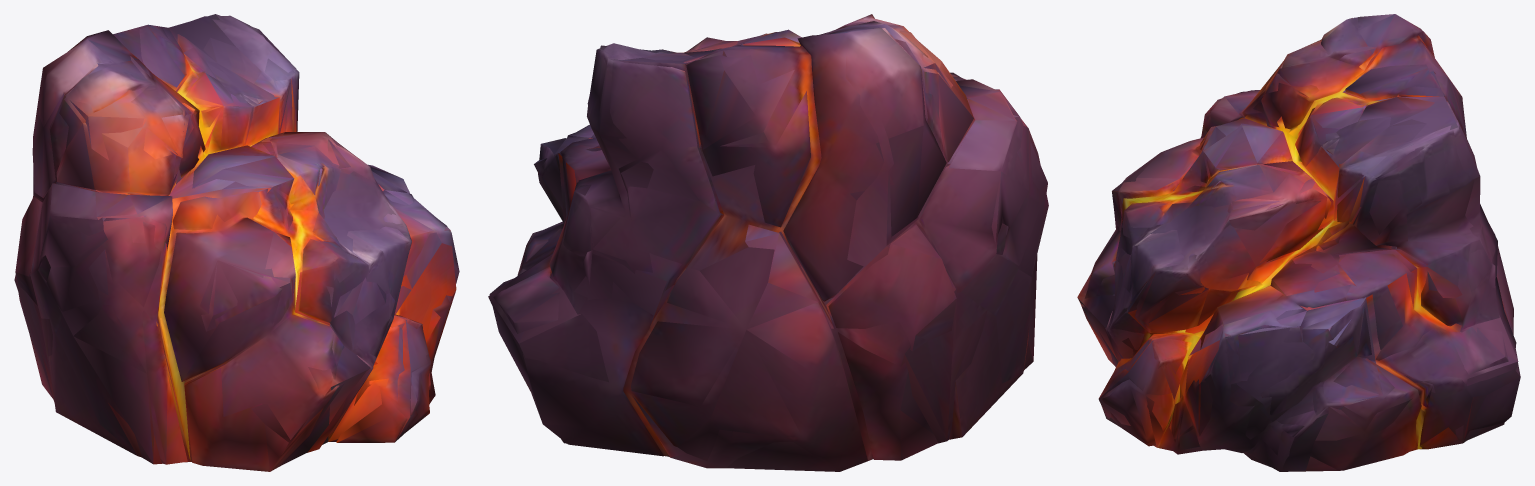
The model's file is rocha.glb.
3 views of the same model, side by side, from view 1: azimuth 30°, elevation 25°; view 2: azimuth 150°, elevation 25°; view 3: azimuth 270°, elevation 25° (orthographic). The views are drawn at different scales.
Visible parts, largest first — view 1: rocha, rocha-lod; view 2: rocha, rocha-lod; view 3: rocha, rocha-lod.
Part boxes in pixels (x1,y1,x2,y2): rocha: [15, 15, 459, 471]; rocha-lod: [14, 14, 456, 467]; rocha: [489, 14, 1048, 471]; rocha-lod: [488, 26, 1047, 471]; rocha: [1081, 14, 1520, 471]; rocha-lod: [1077, 17, 1518, 471].
Size of the model in its own units: 1.17 by 1.01 by 1.22.
Materials: 1 (1 with a texture image).
